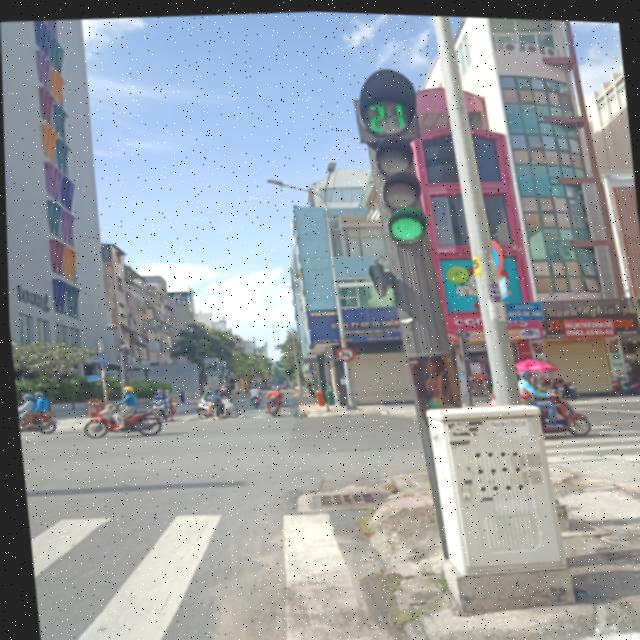Green: (363, 138, 437, 244)
